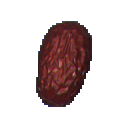gd: (25, 13, 128, 111)
